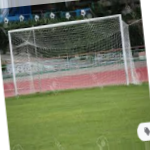goals: (8, 12, 140, 94)
